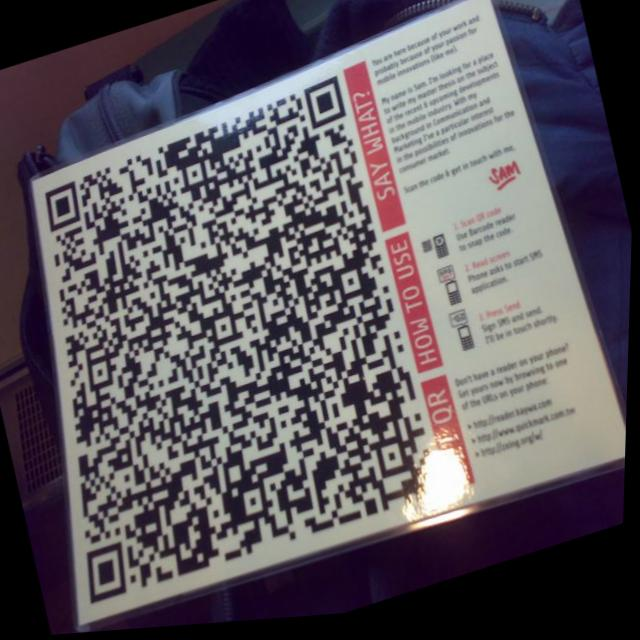qrcode: (1, 72, 452, 612)
